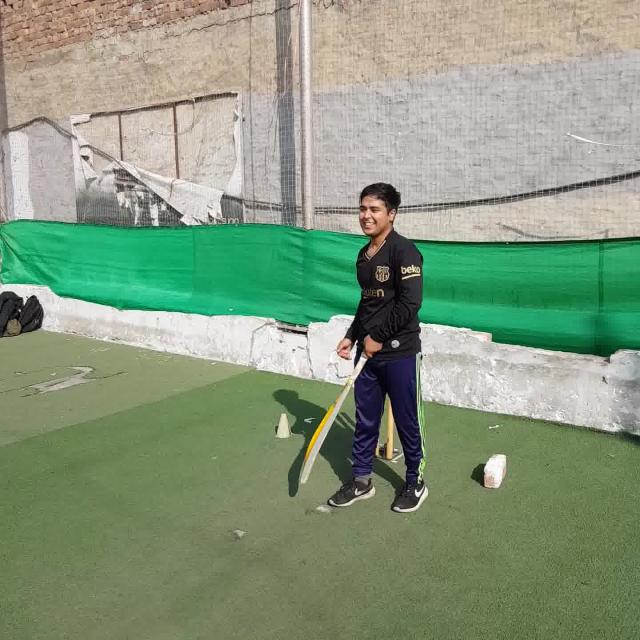bat: (300, 349, 368, 484)
